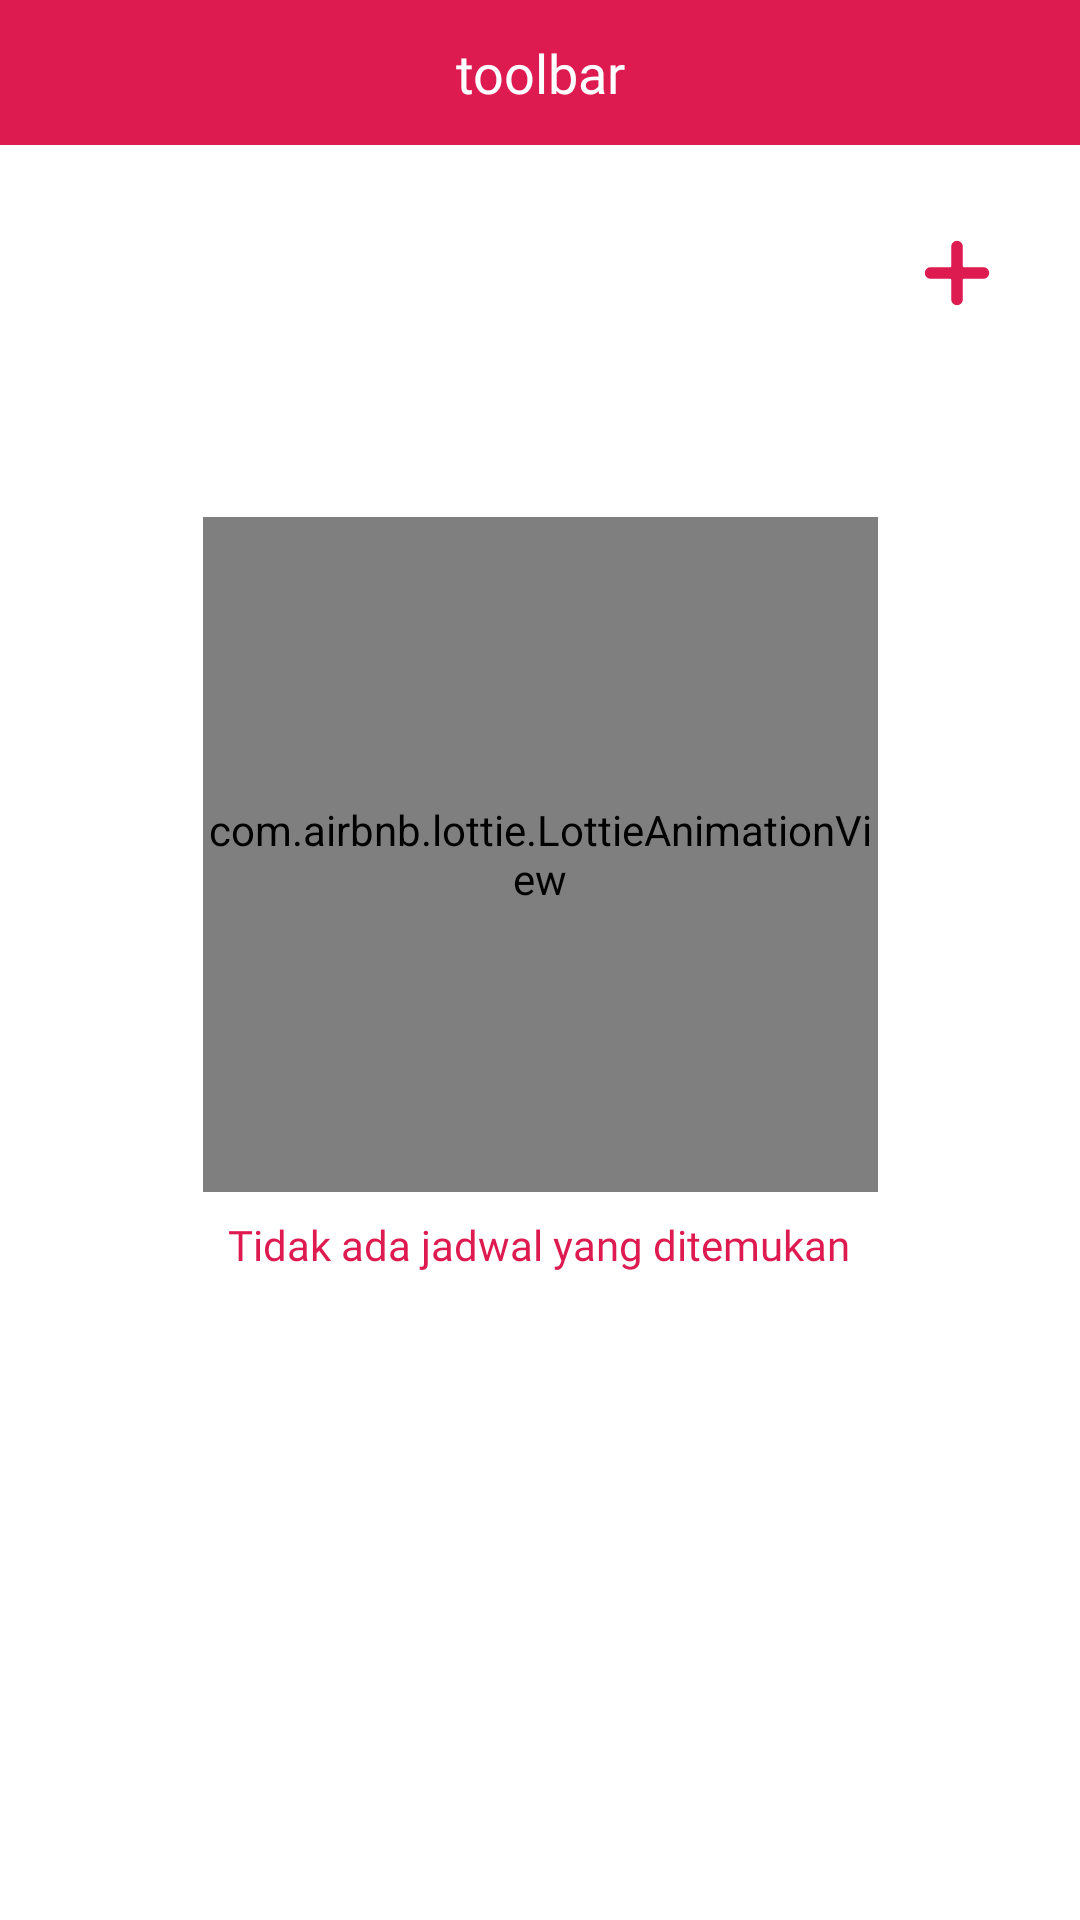

Locate icon controls on the screen. Image size 1080*1920, boxes as [x1, y1, x2, y2].
plus: [924, 240, 990, 306]
